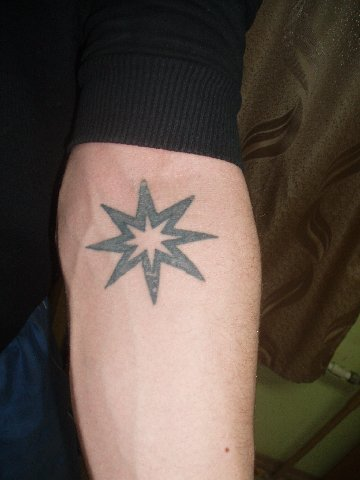tatu4_zvezda: (87, 180, 220, 306)
